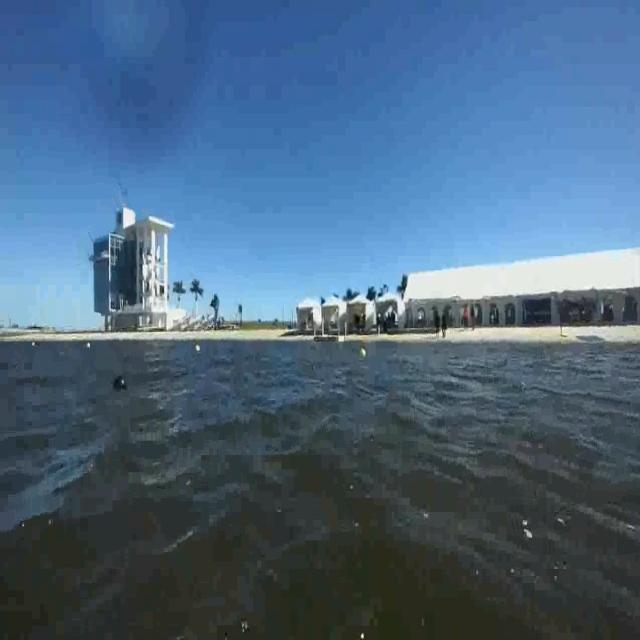black-buoy: (112, 375, 128, 391)
yellow-buoy: (360, 346, 367, 359)
